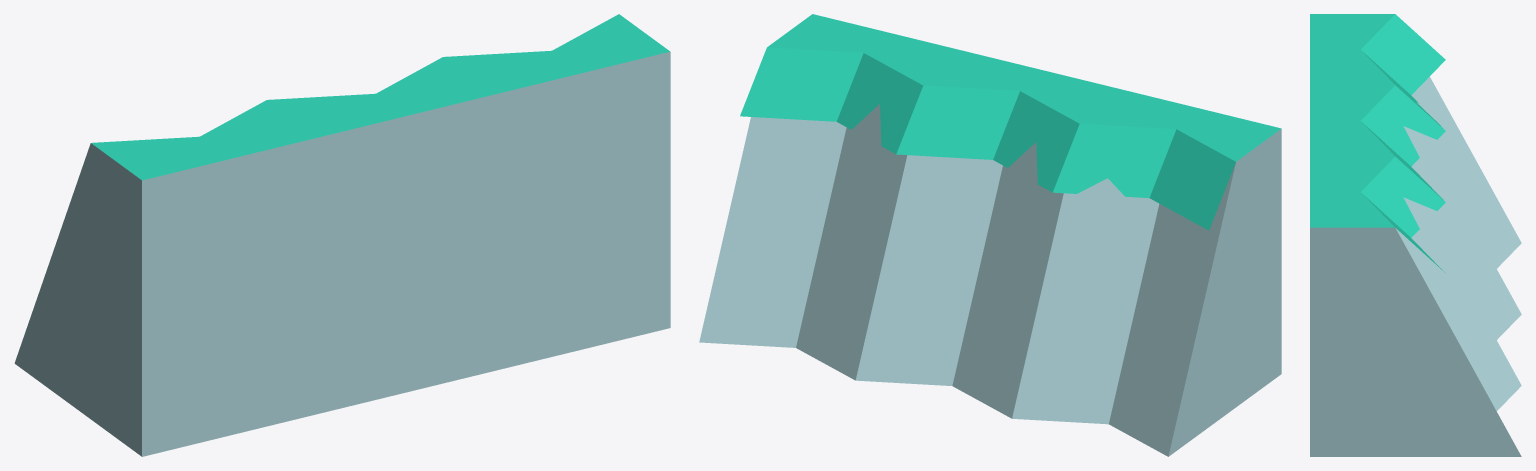
File: cliff_half_stone.glb
The picture shows the model from 3 angles, left to right: view 1: azimuth 30°, elevation 25°; view 2: azimuth 150°, elevation 25°; view 3: azimuth 270°, elevation 25°; orthographic projection. The views are drawn at different scales.
Visible parts, largest first — view 1: cliff_half_stone; view 2: cliff_half_stone; view 3: cliff_half_stone.
Part boxes in pixels (x1=…): cliff_half_stone: x1=14, y1=14, x2=670, y2=456; cliff_half_stone: x1=699, y1=14, x2=1281, y2=456; cliff_half_stone: x1=1310, y1=14, x2=1521, y2=456.
Size of the model in its own units: 1 by 0.5 by 0.4185.
